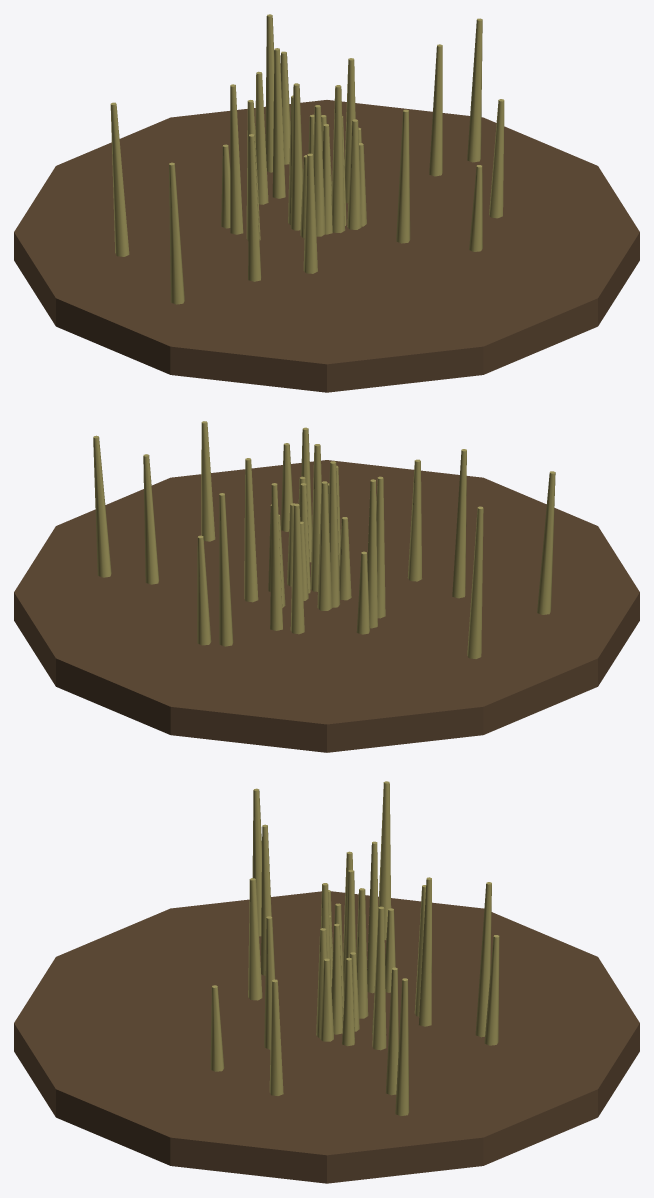
The model's file is flachs-geerntet.glb.
3 views of the same model, one above another, from view 1: azimuth 30°, elevation 25°; view 2: azimuth 150°, elevation 25°; view 3: azimuth 270°, elevation 25° (orthographic).
Visible parts, largest first — view 1: flachs; view 2: flachs; view 3: flachs.
Boxes of the visible parts, x1=… form: flachs: x1=14, y1=14, x2=639, y2=392; flachs: x1=14, y1=421, x2=639, y2=752; flachs: x1=14, y1=781, x2=639, y2=1183.
Bounding box in the file's own units: 0.4 × 0.1268 × 0.4.
